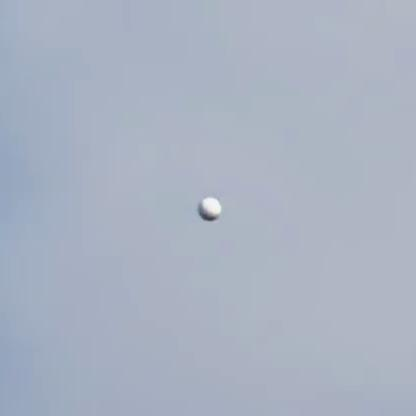golfball: (196, 191, 220, 219)
